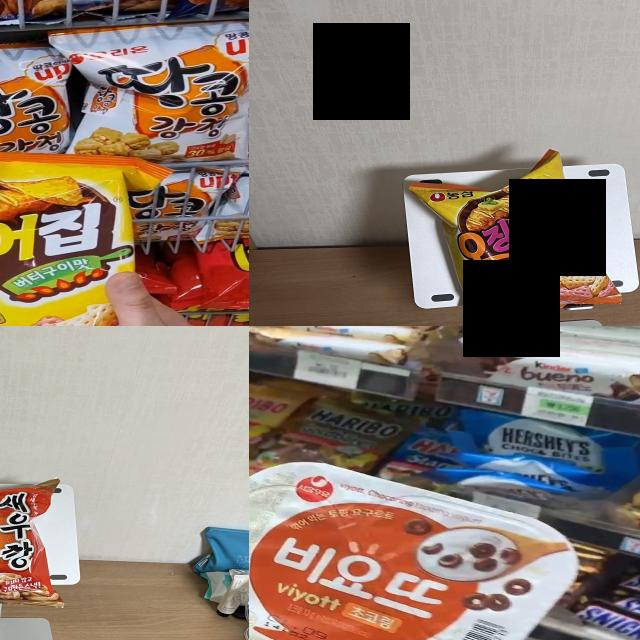bYott: (249, 499, 495, 640)
ozingZip: (0, 154, 130, 326), (458, 188, 575, 299)
shrimpGGang: (0, 483, 40, 602)
